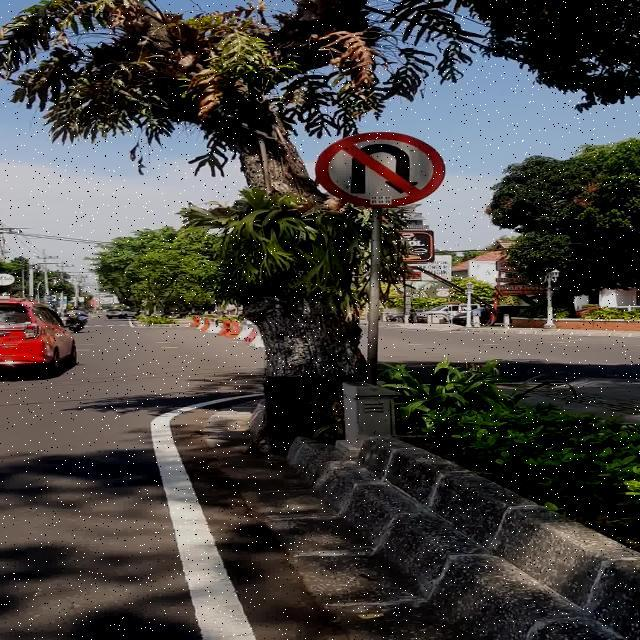Dilarang Putar Balik: (314, 132, 446, 208)
